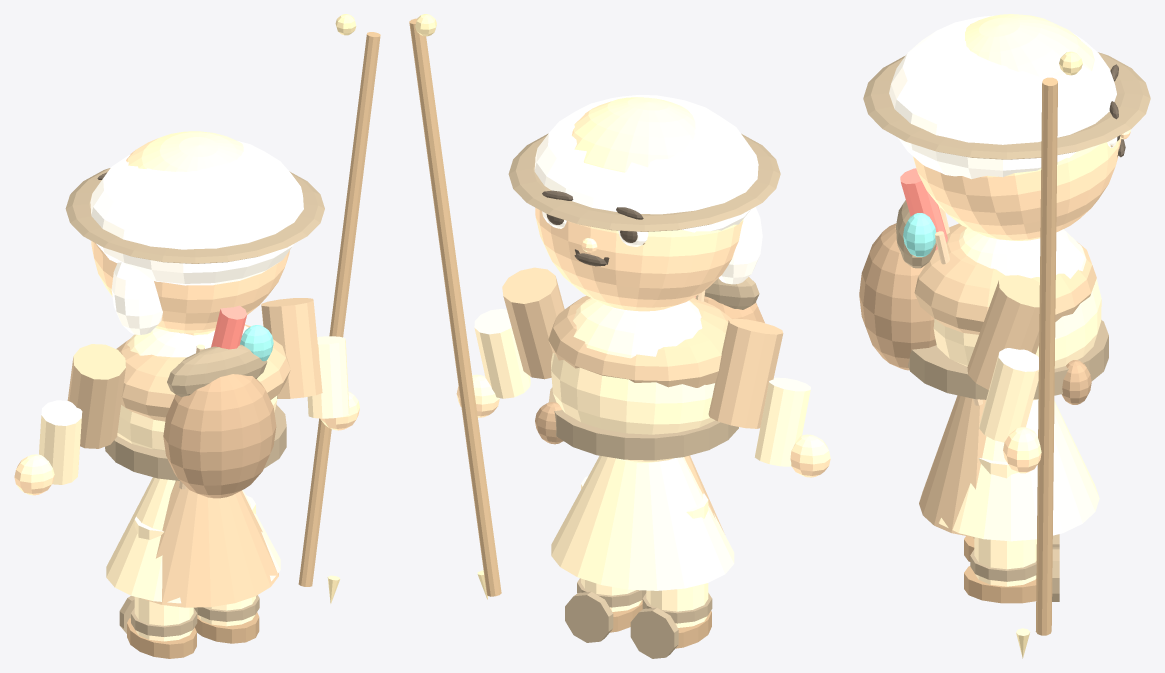
Rendered from Traveler.glb.
The picture shows the model from 3 angles, left to right: view 1: azimuth 30°, elevation 25°; view 2: azimuth 150°, elevation 25°; view 3: azimuth 270°, elevation 25°; orthographic projection. The views are drawn at different scales.
Parts seen in each view (by area): view 1: KeffTop, CloakSkirt, PackBody, Head, Staff, Agal, Skirt, UpperArmL, Shoulders, UpperArmR, Body, ForearmL (+14 smaller); view 2: Head, Skirt, KeffTop, Body, Staff, Shoulders, Agal, UpperArmL, Belt, UpperArmR, ForearmL, ForearmR (+13 smaller); view 3: KeffTop, Head, Skirt, Staff, Agal, Body, Shoulders, PackBody, CloakSkirt, UpperArmR, ForearmR, Belt (+10 smaller).
Part boxes in pixels (left/top/right/bottom): KeffTop: left=90, top=141, right=303, bottom=285; CloakSkirt: left=140, top=480, right=278, bottom=607; PackBody: left=163, top=374, right=276, bottom=498; Head: left=91, top=131, right=289, bottom=333; Staff: left=298, top=32, right=380, bottom=586; Agal: left=65, top=168, right=324, bottom=263; Skirt: left=106, top=477, right=280, bottom=603; UpperArmL: left=67, top=344, right=125, bottom=448; Shoulders: left=116, top=324, right=290, bottom=421; UpperArmR: left=261, top=298, right=322, bottom=398; Body: left=117, top=325, right=277, bottom=450; ForearmL: left=39, top=400, right=82, bottom=484; Head: left=535, top=97, right=743, bottom=311; Skirt: left=551, top=455, right=734, bottom=590; KeffTop: left=534, top=95, right=758, bottom=232; Body: left=551, top=298, right=714, bottom=463; Staff: left=409, top=18, right=501, bottom=596; Shoulders: left=548, top=295, right=731, bottom=387; Agal: left=508, top=133, right=780, bottom=231; UpperArmL: left=708, top=318, right=783, bottom=428; Belt: left=548, top=387, right=738, bottom=460; UpperArmR: left=502, top=267, right=564, bottom=379; ForearmL: left=754, top=377, right=810, bottom=466; ForearmR: left=474, top=309, right=530, bottom=398; KeffTop: left=889, top=15, right=1116, bottom=179; Head: left=913, top=14, right=1121, bottom=240; Skirt: left=938, top=399, right=1099, bottom=541; Staff: left=1035, top=77, right=1057, bottom=635; Agal: left=863, top=52, right=1150, bottom=159; Body: left=933, top=227, right=1101, bottom=400; Shoulders: left=914, top=223, right=1096, bottom=334; PackBody: left=859, top=223, right=936, bottom=370; CloakSkirt: left=919, top=395, right=986, bottom=537; UpperArmR: left=967, top=275, right=1039, bottom=389; ForearmR: left=979, top=348, right=1038, bottom=442; Belt: left=908, top=320, right=1108, bottom=399.
Size of the model in its own units: 1.22 by 1.73 by 0.7299.
